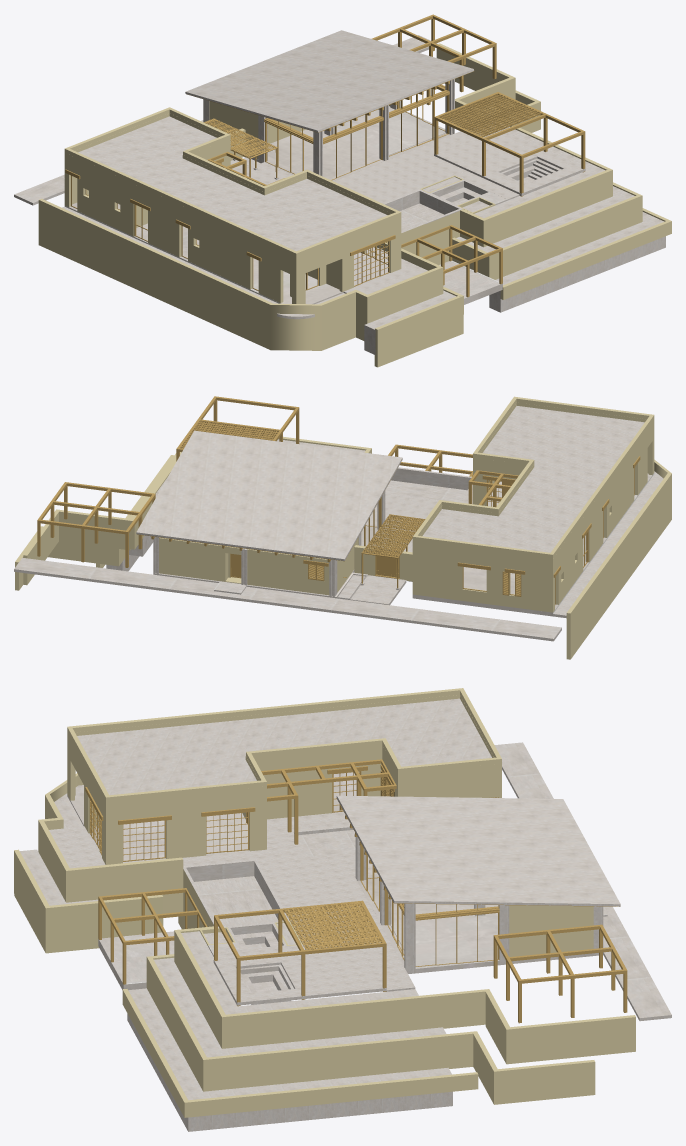
File: Casona02.glb
3 views of the same model, one above another, from view 1: azimuth 30°, elevation 25°; view 2: azimuth 150°, elevation 25°; view 3: azimuth 270°, elevation 25° (orthographic). The views are drawn at different scales.
Visible parts, largest first — view 1: C02_Wall, C02_Floor03, C02_Roof, C02_Floor01, C02_Pergola, C02_Floor02, C02_Cancel; view 2: C02_Wall, C02_Floor03, C02_Roof, C02_Pergola, C02_Floor01, C02_Floor02, C02_Cancel; view 3: C02_Wall, C02_Floor03, C02_Roof, C02_Floor01, C02_Pergola, C02_Floor02, C02_Cancel.
Boxes of the visible parts, box(x1,y1,x2,y2) form: C02_Wall: box(38, 43, 671, 367); C02_Floor03: box(14, 35, 665, 354); C02_Roof: box(185, 30, 473, 179); C02_Floor01: box(230, 128, 585, 294); C02_Pergola: box(65, 14, 585, 297); C02_Floor02: box(64, 106, 502, 304); C02_Cancel: box(71, 83, 449, 290); C02_Wall: box(15, 396, 671, 659); C02_Floor03: box(14, 406, 663, 641); C02_Roof: box(136, 430, 402, 596); C02_Pergola: box(37, 396, 640, 596); C02_Floor01: box(214, 467, 472, 599); C02_Floor02: box(153, 473, 654, 616); C02_Cancel: box(343, 467, 634, 604); C02_Wall: box(14, 688, 635, 1117); C02_Floor03: box(20, 698, 671, 1131); C02_Roof: box(336, 795, 620, 973); C02_Floor01: box(49, 812, 607, 1005); C02_Pergola: box(85, 759, 627, 1023); C02_Floor02: box(67, 771, 593, 990); C02_Cancel: box(89, 771, 499, 966).
Bounding box in the file's own units: 42.92 × 11.22 × 39.57.
Materials: 3 (1 with a texture image).
